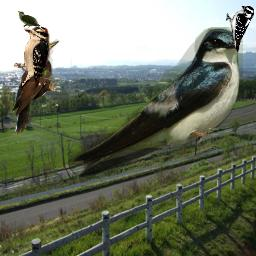Cuckoo: (17, 11, 45, 33)
Swallow: (69, 27, 243, 180)
Woodpecker: (11, 39, 62, 135), (13, 25, 50, 88), (226, 6, 254, 54)
